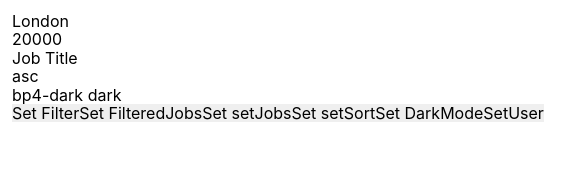
Test case: GeneralProvider › SetFilter
The image size is (561, 172).
Click the button "Set Filter" at (46, 113), box x1=12 y1=104 x2=79 y2=122
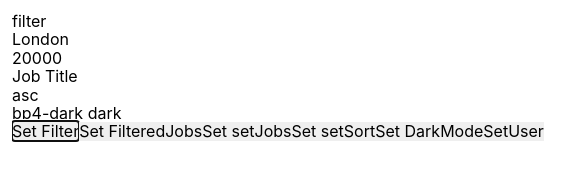
Expected: the text with test id "filters-value" reads "filter", x1=12 y1=11 x2=46 y2=31
